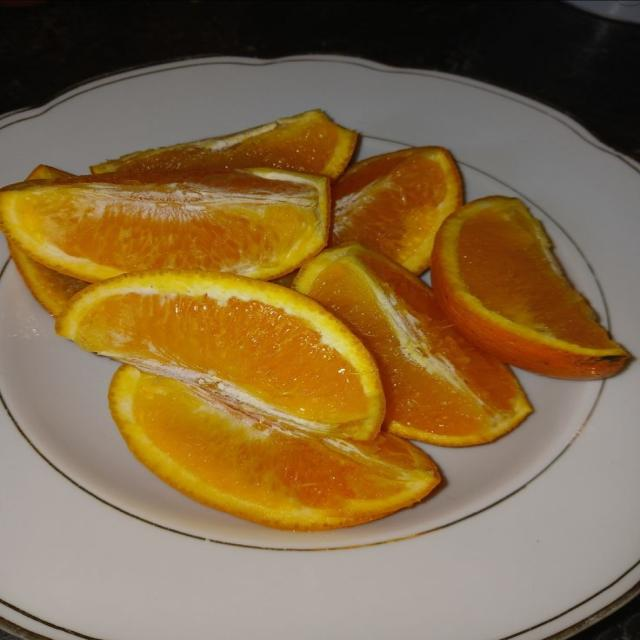orange: (56, 270, 384, 439), (110, 366, 439, 530), (294, 244, 531, 446), (0, 169, 329, 281), (432, 196, 629, 378), (92, 110, 357, 178), (330, 147, 462, 273), (10, 245, 88, 316), (10, 245, 87, 316)
